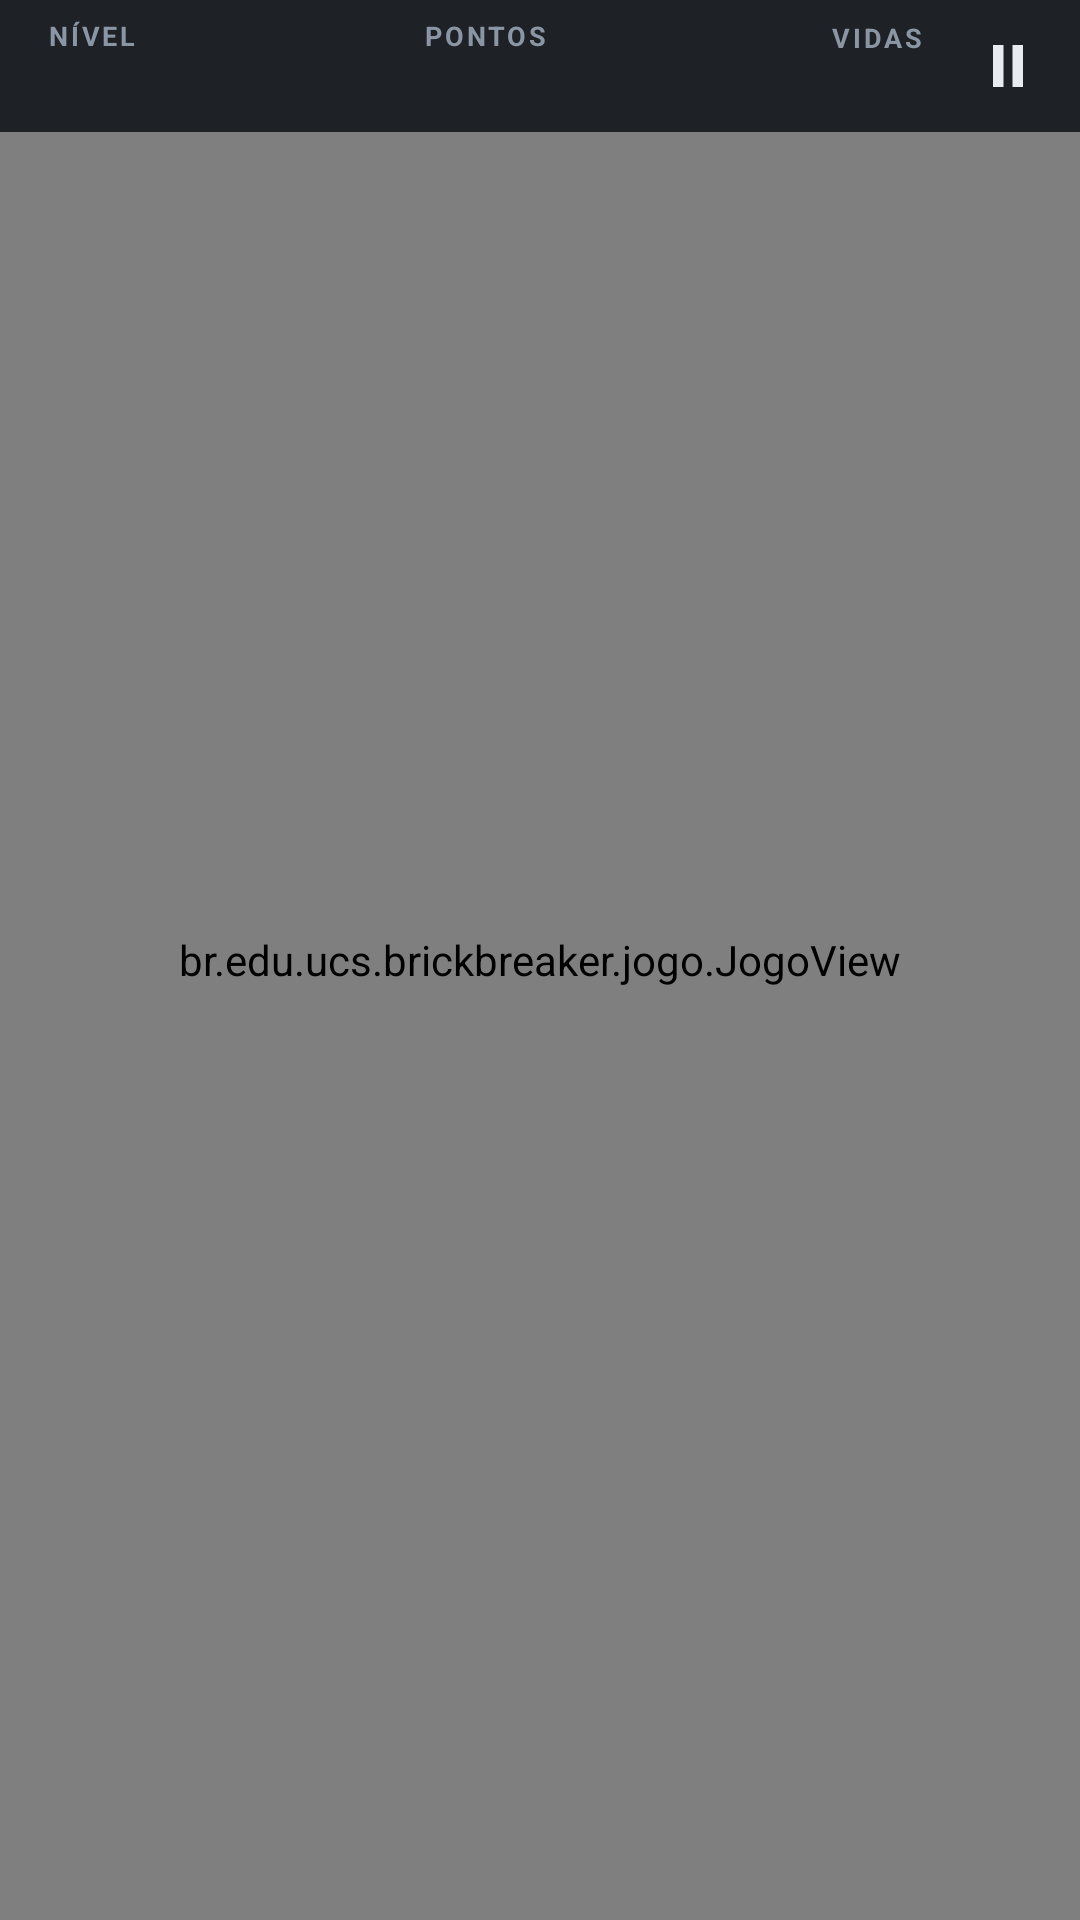

Named icons in this screenshot (1080 x 1920) and their bounding boxes, (x1, y1, x2, y2):
Pausar: (993, 45, 1023, 87)
